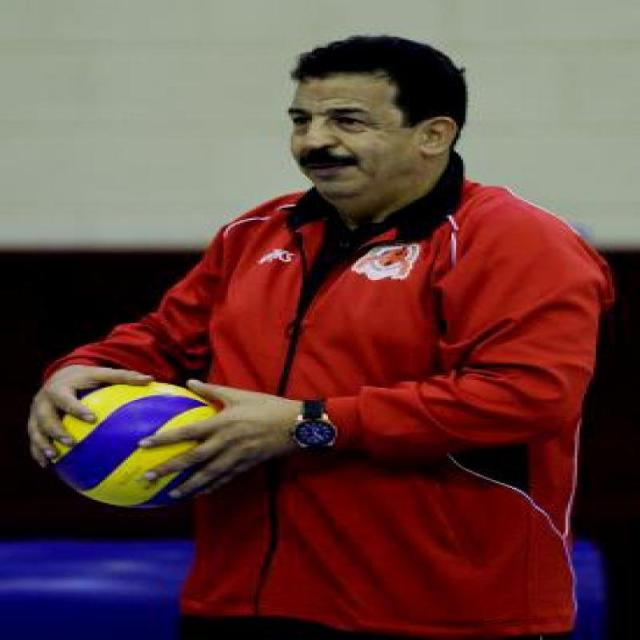volleyball: (45, 380, 216, 510)
